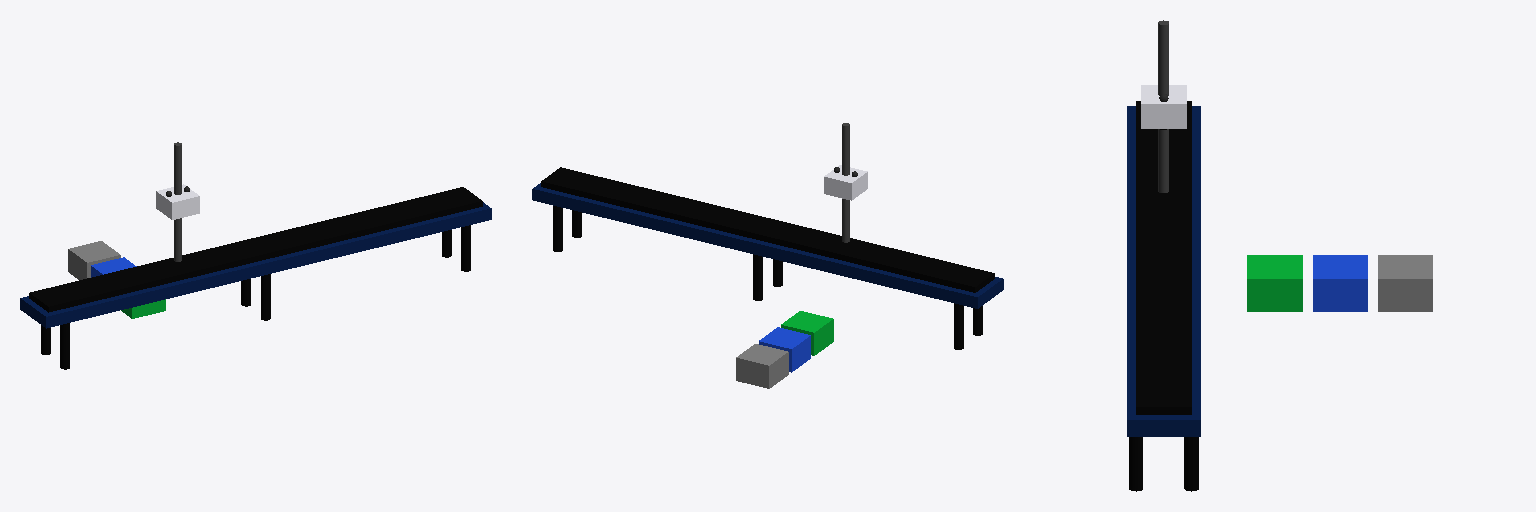
URDF robot description (fabrica_estable_v3_clasificador):
<?xml version="1.0"?>
<!--
  ============================================================================
  MAQUETA_CLASIFICADOR.URDF
  ============================================================================
  Basado en el archivo base "maqueta.urdf" entregado por el docente
  (fabrica_estable_v3). Se añade el módulo diferencial del grupo:

     "Analizador y organizador de múltiples monedas por medio de YOLO
      y conexión I2C de ESP32" -> ¿Moneda de Colombia, de otro país,
      o es un botón?

  Elementos nuevos agregados sobre la banda superior (cinta_seg1):
    - estacion_soporte / estacion_camara : poste + carcasa que representa
      el módulo de visión (cámara + ESP32-CAM/Raspberry corriendo YOLO)
      que en el sistema real se conecta por I2C al ESP32 principal.
    - led_colombia / led_extranjera / led_boton : 3 indicadores LED que
      se encienden según la clase detectada (cambian de color en
      tiempo real desde el script de Python con changeVisualShape).
    - caja_colombia / caja_extranjera / caja_boton : las 3 bandejas de
      salida donde el sistema organiza cada moneda según su clase.
  ============================================================================
-->
<robot name="fabrica_estable_v3_clasificador">

  <!-- ============ MATERIALES (heredados del archivo base) ============ -->
  <material name="blue_metal"><color rgba="0.05 0.15 0.35 1.0"/></material>
  <material name="black_rubber"><color rgba="0.05 0.05 0.05 1.0"/></material>
  <material name="white_machine"><color rgba="0.95 0.95 0.98 1.0"/></material>
  <material name="base_material"><color rgba="0.3 0.3 0.3 1"/></material>
  <material name="brazo1_material"><color rgba="0.2 0.6 0.8 1"/></material>
  <material name="brazo2_material"><color rgba="0.9 0.5 0.1 1"/></material>
  <material name="pinza_material"><color rgba="0.8 0.2 0.2 1"/></material>
  <material name="dedo_material"><color rgba="0.9 0.9 0.9 1"/></material>
  <material name="carro_material"><color rgba="0.1 0.3 0.6 1"/></material>

  <!-- ============ MATERIALES NUEVOS (módulo diferencial) ============ -->
  <material name="colombia_material"><color rgba="0.05 0.75 0.25 1.0"/></material>
  <material name="extranjera_material"><color rgba="0.15 0.35 0.9 1.0"/></material>
  <material name="boton_material"><color rgba="0.55 0.55 0.55 1.0"/></material>
  <material name="led_apagado"><color rgba="0.2 0.2 0.2 1.0"/></material>
  <material name="camara_lente"><color rgba="0.02 0.02 0.02 1.0"/></material>

  <!-- ========================================== -->
  <!-- SEGMENTO 1: CINTA SUPERIOR (Horizontal)     -->
  <!-- ========================================== -->
  <link name="cinta_seg1">
    <visual>
      <geometry><box size="4.0 0.4 0.1"/></geometry>
      <origin xyz="0 0 0" rpy="0 0 0"/>
      <material name="blue_metal"/>
    </visual>
    <visual>
      <geometry><box size="3.9 0.3 0.05"/></geometry>
      <origin xyz="0 0 0.08" rpy="0 0 0"/>
      <material name="black_rubber"/>
    </visual>
    <!-- Rodillos/patas de soporte (dan el aspecto de banda transportadora real) -->
    <visual>
      <geometry><cylinder radius="0.04" length="0.4"/></geometry>
      <origin xyz="1.8 0.15 -0.25" rpy="0 0 0"/>
      <material name="black_rubber"/>
    </visual>
    <visual>
      <geometry><cylinder radius="0.04" length="0.4"/></geometry>
      <origin xyz="1.8 -0.15 -0.25" rpy="0 0 0"/>
      <material name="black_rubber"/>
    </visual>
    <visual>
      <geometry><cylinder radius="0.04" length="0.4"/></geometry>
      <origin xyz="0 0.15 -0.25" rpy="0 0 0"/>
      <material name="black_rubber"/>
    </visual>
    <visual>
      <geometry><cylinder radius="0.04" length="0.4"/></geometry>
      <origin xyz="0 -0.15 -0.25" rpy="0 0 0"/>
      <material name="black_rubber"/>
    </visual>
    <visual>
      <geometry><cylinder radius="0.04" length="0.4"/></geometry>
      <origin xyz="-1.8 0.15 -0.25" rpy="0 0 0"/>
      <material name="black_rubber"/>
    </visual>
    <visual>
      <geometry><cylinder radius="0.04" length="0.4"/></geometry>
      <origin xyz="-1.8 -0.15 -0.25" rpy="0 0 0"/>
      <material name="black_rubber"/>
    </visual>
    <inertial>
      <mass value="20.0"/>
      <inertia ixx="10.0" ixy="0.0" ixz="0.0" iyy="10.0" iyz="0.0" izz="1.5"/>
    </inertial>
  </link>

  <link name="base_planta">
    <inertial>
      <mass value="1000.0"/>
      <inertia ixx="100.0" ixy="0.0" ixz="0.0" iyy="100.0" iyz="0.0" izz="100.0"/>
    </inertial>
  </link>

  <!-- 1. CINTA SUPERIOR: la misma posición usada en el archivo base -->
  <joint name="j_cinta_seg1" type="fixed">
    <parent link="base_planta"/>
    <child link="cinta_seg1"/>
    <origin xyz="1.0 0.0 0.5" rpy="0 0 0"/>
  </joint>

  <!-- ========================================================= -->
  <!-- MÓDULO DIFERENCIAL: ESTACIÓN DE VISIÓN (YOLO + ESP32 I2C) -->
  <!-- Ubicada sobre la cinta superior, en x=0.3 (coords de mundo) -->
  <!-- ========================================================= -->

  <link name="estacion_soporte">
    <visual>
      <geometry><cylinder radius="0.03" length="1.0"/></geometry>
      <origin xyz="0 0 0.5" rpy="0 0 0"/>
      <material name="base_material"/>
    </visual>
    <inertial>
      <mass value="1.0"/>
      <inertia ixx="0.01" ixy="0.0" ixz="0.0" iyy="0.01" iyz="0.0" izz="0.01"/>
    </inertial>
  </link>

  <joint name="j_estacion_soporte" type="fixed">
    <parent link="base_planta"/>
    <child link="estacion_soporte"/>
    <!-- x=0.3 -> justo sobre la cinta superior, cerca del inicio -->
    <origin xyz="0.3 0.0 0.65" rpy="0 0 0"/>
  </joint>

  <link name="estacion_camara">
    <!-- Carcasa: ESP32-CAM / módulo de visión -->
    <visual>
      <geometry><box size="0.25 0.25 0.15"/></geometry>
      <origin xyz="0 0 0" rpy="0 0 0"/>
      <material name="white_machine"/>
    </visual>
    <!-- Lente de la cámara apuntando hacia abajo, a la banda -->
    <visual>
      <geometry><cylinder radius="0.035" length="0.06"/></geometry>
      <origin xyz="0 0 -0.09" rpy="0 0 0"/>
      <material name="camara_lente"/>
    </visual>
    <inertial>
      <mass value="0.4"/>
      <inertia ixx="0.001" ixy="0.0" ixz="0.0" iyy="0.001" iyz="0.0" izz="0.001"/>
    </inertial>
  </link>

  <joint name="j_estacion_camara" type="fixed">
    <parent link="estacion_soporte"/>
    <child link="estacion_camara"/>
    <origin xyz="0 0 0.5" rpy="0 0 0"/>
  </joint>

  <!-- 3 LEDs indicadores: se colorean en tiempo real desde Python
       según la clase devuelta por el clasificador (YOLO real a futuro) -->
  <link name="led_colombia">
    <visual>
      <geometry><sphere radius="0.025"/></geometry>
      <material name="led_apagado"/>
    </visual>
  </link>
  <joint name="j_led_colombia" type="fixed">
    <parent link="estacion_camara"/>
    <child link="led_colombia"/>
    <origin xyz="-0.08 0 0.09" rpy="0 0 0"/>
  </joint>

  <link name="led_extranjera">
    <visual>
      <geometry><sphere radius="0.025"/></geometry>
      <material name="led_apagado"/>
    </visual>
  </link>
  <joint name="j_led_extranjera" type="fixed">
    <parent link="estacion_camara"/>
    <child link="led_extranjera"/>
    <origin xyz="0 0 0.09" rpy="0 0 0"/>
  </joint>

  <link name="led_boton">
    <visual>
      <geometry><sphere radius="0.025"/></geometry>
      <material name="led_apagado"/>
    </visual>
  </link>
  <joint name="j_led_boton" type="fixed">
    <parent link="estacion_camara"/>
    <child link="led_boton"/>
    <origin xyz="0.08 0 0.09" rpy="0 0 0"/>
  </joint>

  <!-- ========================================================= -->
  <!-- 3 BANDEJAS DE SALIDA (organización final de las monedas)   -->
  <!-- Alineadas en x=0.3 (misma x que la estación), separadas en y -->
  <!-- ========================================================= -->

  <link name="caja_colombia">
    <visual>
      <geometry><box size="0.3 0.3 0.2"/></geometry>
      <origin xyz="0 0 0.1" rpy="0 0 0"/>
      <material name="colombia_material"/>
    </visual>
    <inertial>
      <mass value="2.0"/>
      <inertia ixx="0.02" ixy="0.0" ixz="0.0" iyy="0.02" iyz="0.0" izz="0.02"/>
    </inertial>
  </link>
  <joint name="j_caja_colombia" type="fixed">
    <parent link="base_planta"/>
    <child link="caja_colombia"/>
    <origin xyz="0.3 0.6 0.0" rpy="0 0 0"/>
  </joint>

  <link name="caja_extranjera">
    <visual>
      <geometry><box size="0.3 0.3 0.2"/></geometry>
      <origin xyz="0 0 0.1" rpy="0 0 0"/>
      <material name="extranjera_material"/>
    </visual>
    <inertial>
      <mass value="2.0"/>
      <inertia ixx="0.02" ixy="0.0" ixz="0.0" iyy="0.02" iyz="0.0" izz="0.02"/>
    </inertial>
  </link>
  <joint name="j_caja_extranjera" type="fixed">
    <parent link="base_planta"/>
    <child link="caja_extranjera"/>
    <origin xyz="0.3 0.95 0.0" rpy="0 0 0"/>
  </joint>

  <link name="caja_boton">
    <visual>
      <geometry><box size="0.3 0.3 0.2"/></geometry>
      <origin xyz="0 0 0.1" rpy="0 0 0"/>
      <material name="boton_material"/>
    </visual>
    <inertial>
      <mass value="2.0"/>
      <inertia ixx="0.02" ixy="0.0" ixz="0.0" iyy="0.02" iyz="0.0" izz="0.02"/>
    </inertial>
  </link>
  <joint name="j_caja_boton" type="fixed">
    <parent link="base_planta"/>
    <child link="caja_boton"/>
    <origin xyz="0.3 1.3 0.0" rpy="0 0 0"/>
  </joint>

</robot>

--- Render facts (derived) ---
Views: 3 orthographic renders of the robot side by side, from view 1: azimuth 30°, elevation 25°; view 2: azimuth 150°, elevation 25°; view 3: azimuth 270°, elevation 25°.
Robot: fabrica_estable_v3_clasificador — 10 links, 9 joints (9 fixed); root link base_planta; default pose: every joint at zero.
Links seen in each view (by area): view 1: cinta_seg1, caja_boton, estacion_camara, estacion_soporte; view 2: cinta_seg1, caja_boton, caja_colombia, caja_extranjera, estacion_camara, estacion_soporte; view 3: cinta_seg1, caja_colombia, caja_extranjera, caja_boton, estacion_camara, estacion_soporte.
Boxes of the visible links, left/top/right/bottom form: cinta_seg1: left=20, top=187, right=491, bottom=369; caja_boton: left=68, top=241, right=120, bottom=279; estacion_camara: left=156, top=184, right=199, bottom=219; estacion_soporte: left=174, top=142, right=181, bottom=261; cinta_seg1: left=532, top=167, right=1003, bottom=349; caja_boton: left=736, top=344, right=788, bottom=388; caja_colombia: left=781, top=311, right=833, bottom=355; caja_extranjera: left=759, top=327, right=810, bottom=372; estacion_camara: left=824, top=165, right=867, bottom=200; estacion_soporte: left=842, top=123, right=849, bottom=242; cinta_seg1: left=1127, top=101, right=1200, bottom=491; caja_colombia: left=1247, top=255, right=1302, bottom=311; caja_extranjera: left=1313, top=255, right=1367, bottom=311; caja_boton: left=1378, top=255, right=1432, bottom=311; estacion_camara: left=1141, top=85, right=1186, bottom=129; estacion_soporte: left=1158, top=20, right=1168, bottom=192.
Bounding box of the posed robot: 4 × 1.65 × 1.65 m (x, y, z).
Geometry: primitives only (box / cylinder / sphere), no mesh files.
